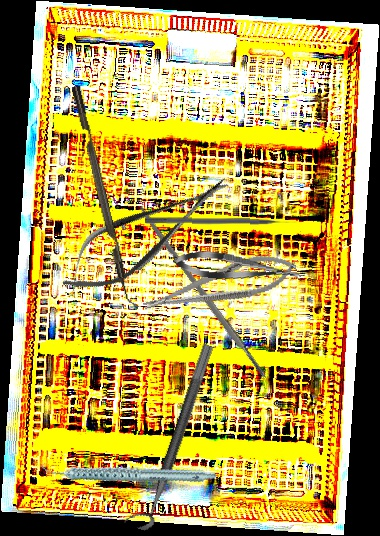Chopper: (71, 82, 143, 311)
Fixation Ring: (123, 338, 215, 533)
Handpiece: (39, 427, 217, 516)
Micro Scissor: (47, 158, 244, 310), (171, 247, 304, 289)
Needle Holder: (138, 245, 301, 325)
Pusher: (144, 216, 298, 228)
Scalpel Handle: (136, 204, 268, 381)
